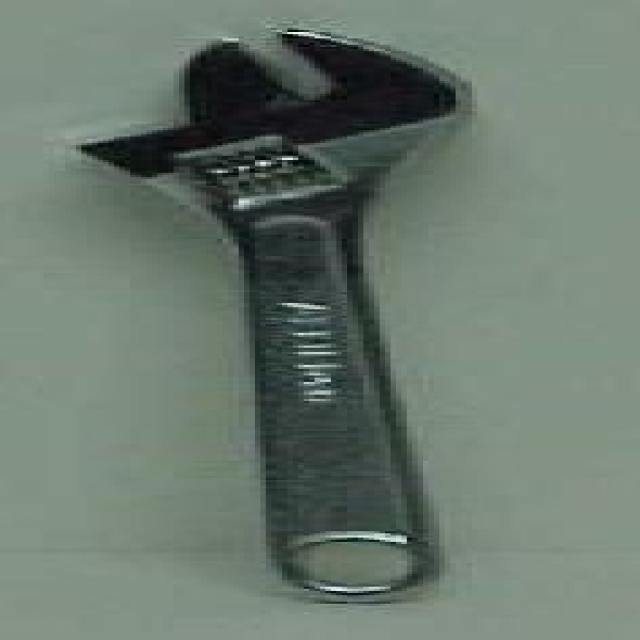wrench: (54, 19, 606, 585)
